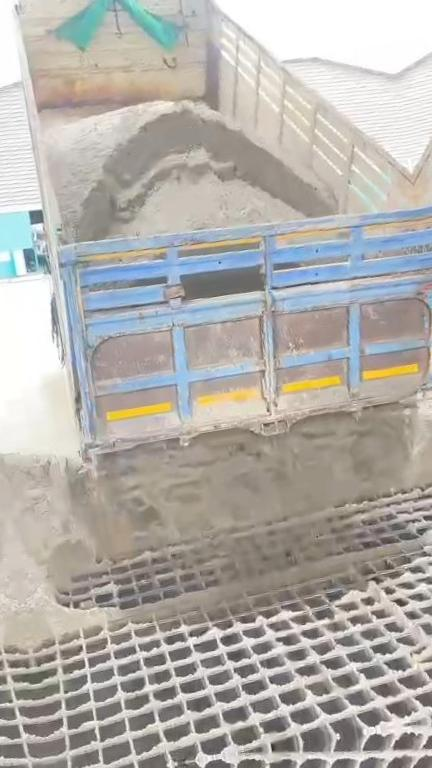sand: (0, 401, 432, 640), (41, 102, 337, 241), (424, 516, 432, 545)
